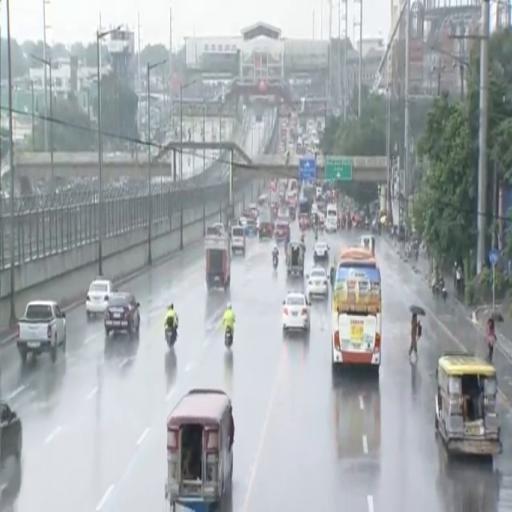bus: (332, 248, 381, 370), (325, 204, 338, 232), (258, 195, 269, 207)
car: (105, 293, 140, 337), (0, 402, 22, 465), (86, 278, 115, 317), (283, 292, 310, 331), (306, 268, 328, 298), (313, 242, 329, 262), (239, 217, 247, 229)
jeepney: (166, 389, 234, 509), (435, 352, 501, 455), (286, 243, 305, 276), (360, 235, 375, 255)
motorcycle: (165, 326, 177, 348), (438, 279, 447, 301), (225, 327, 233, 347), (273, 253, 278, 268), (442, 286, 447, 301), (314, 229, 318, 241)
truck: (17, 301, 66, 363), (205, 228, 231, 290), (259, 207, 273, 239)
